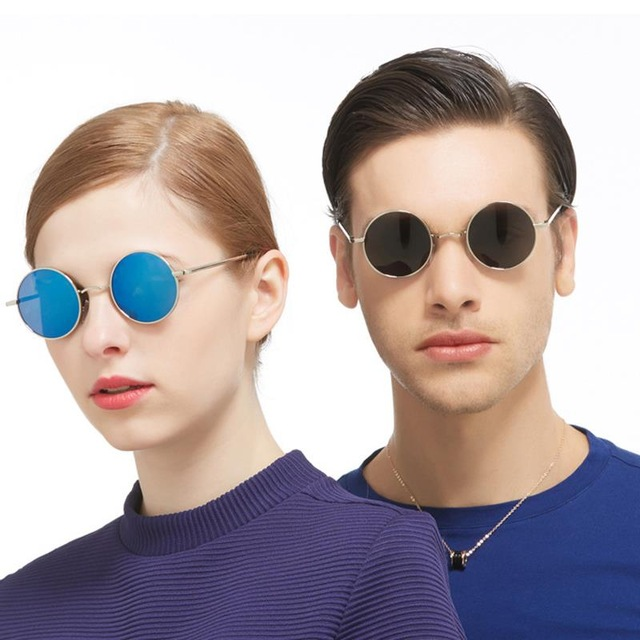sunglasses: (322, 200, 596, 290), (1, 252, 292, 335)
